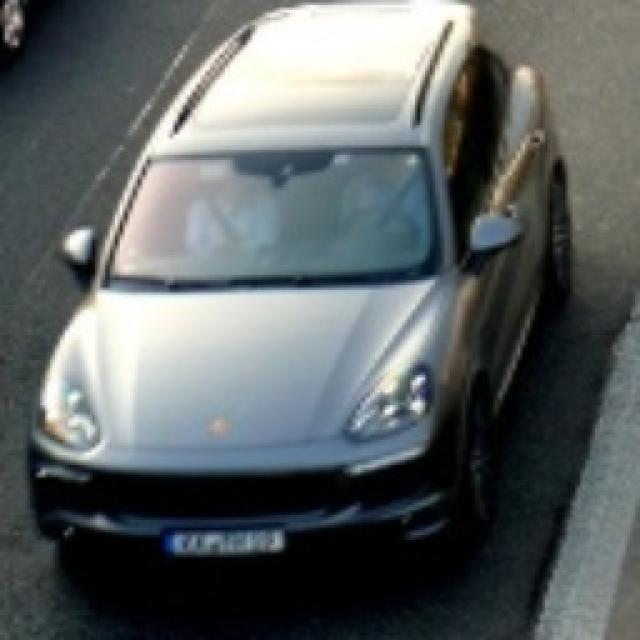windshield: (95, 141, 458, 300)
